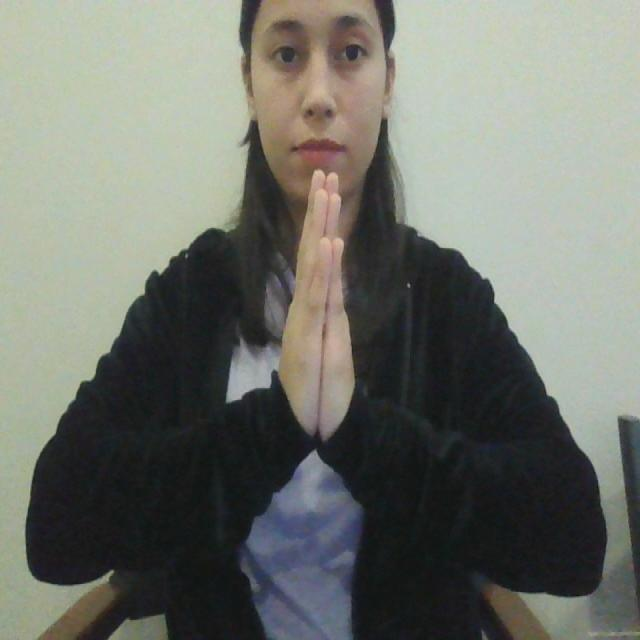Ozur-Dilemek: (278, 158, 362, 460)
